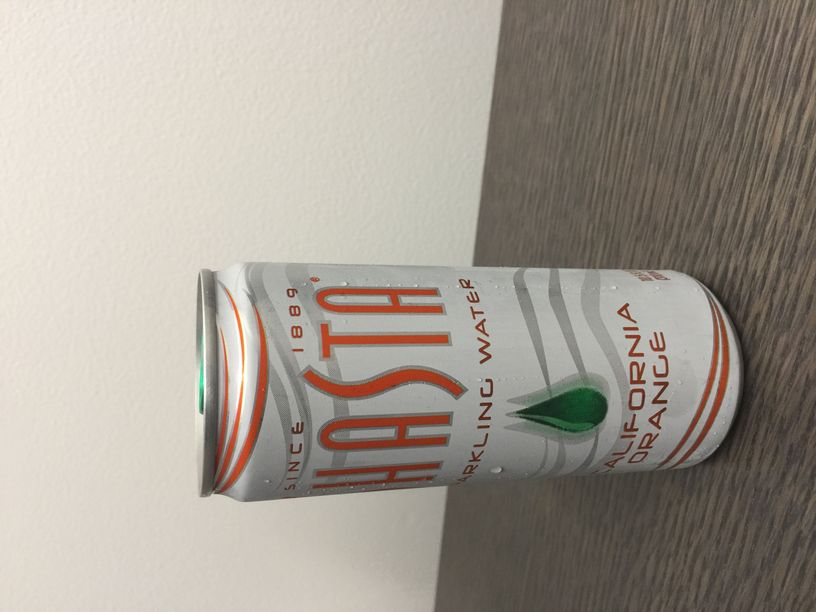competitor_01: (191, 260, 745, 504)
